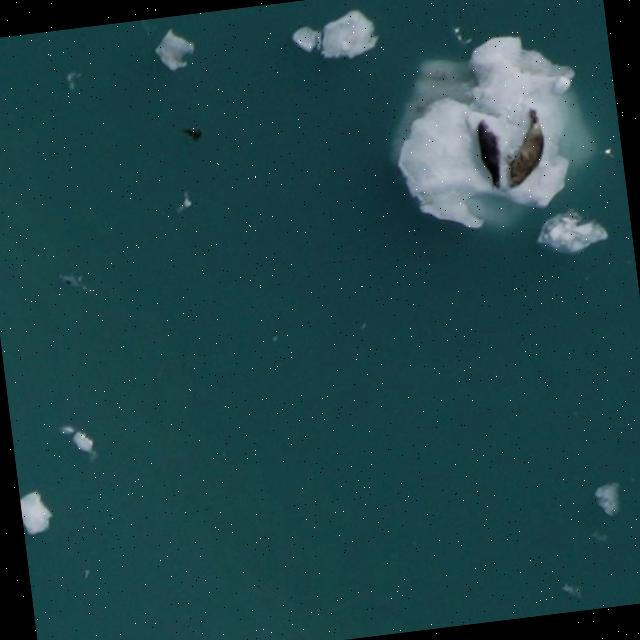seal: (495, 106, 560, 193), (477, 119, 504, 190)
